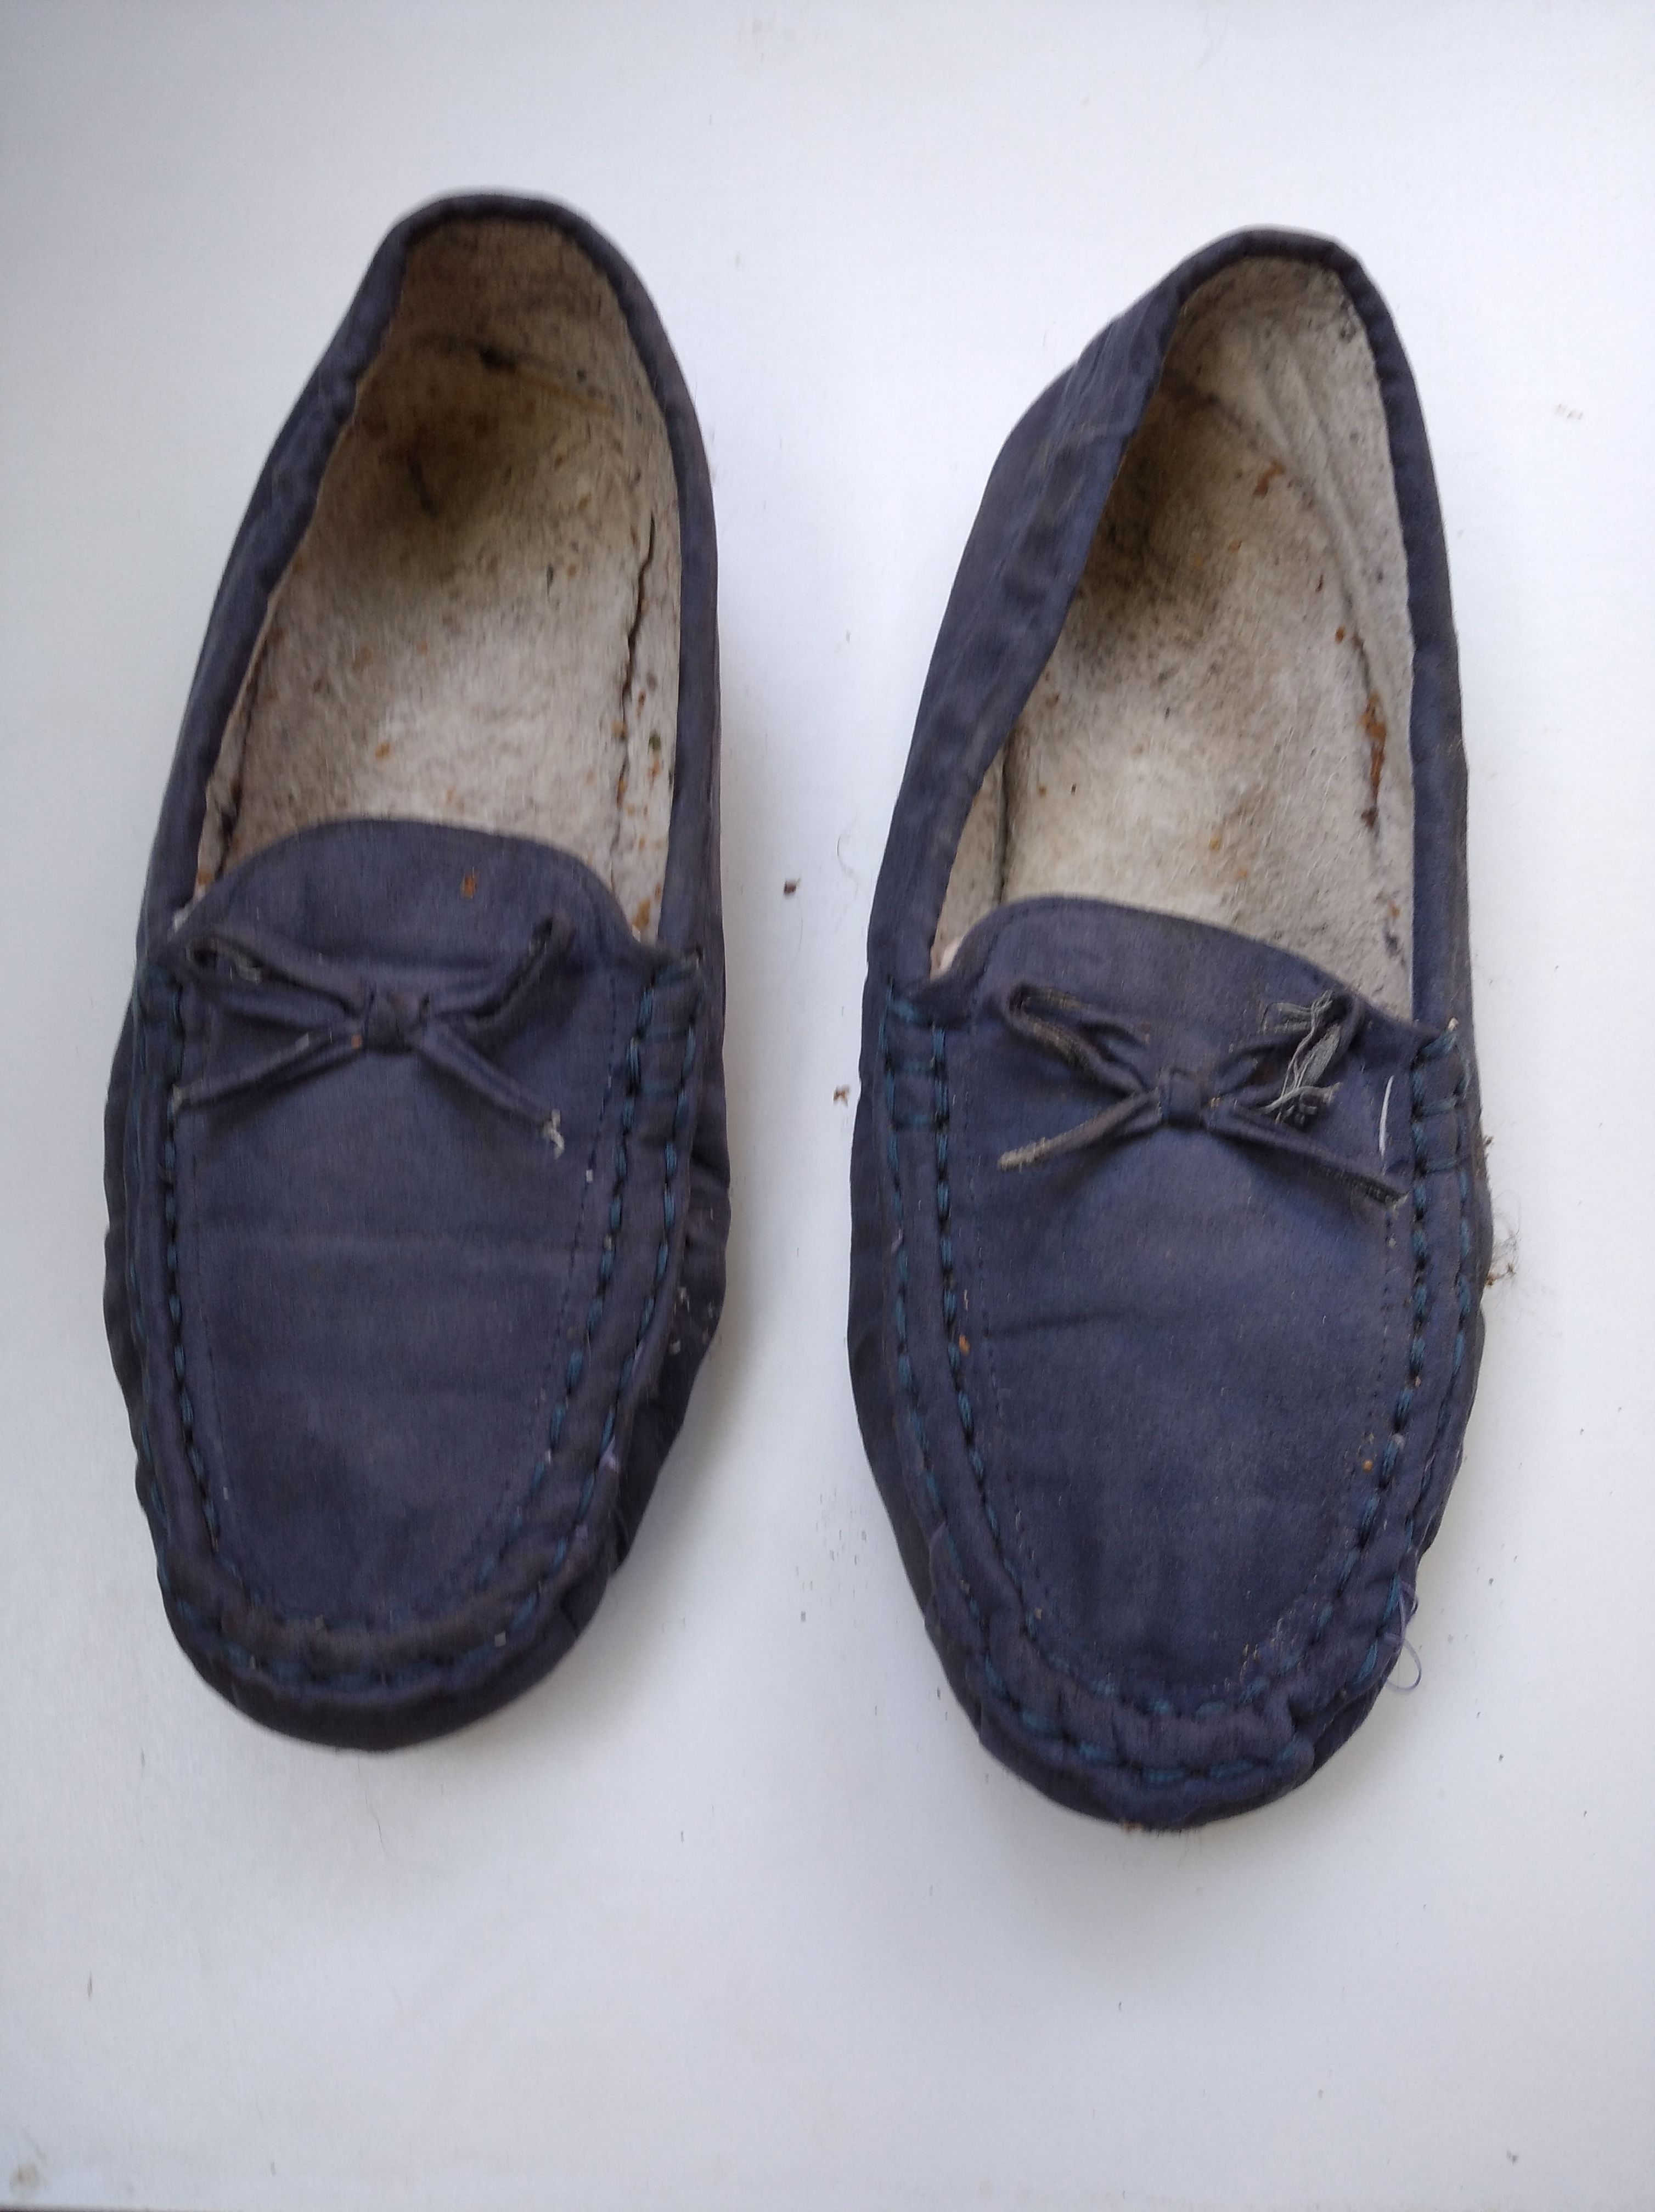clothes: (89, 169, 760, 1732), (883, 202, 1504, 1851)
